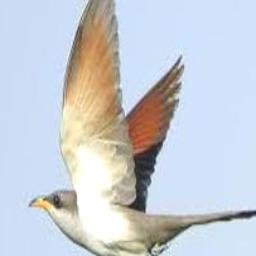Cuckoo: (30, 0, 256, 256)
